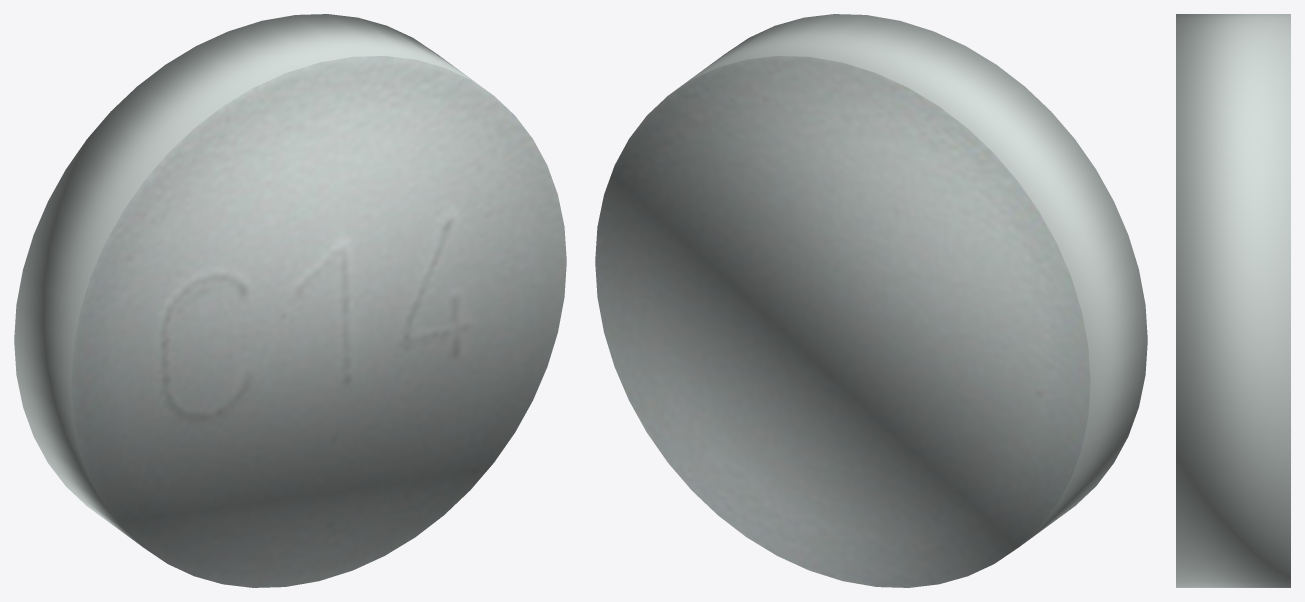
Rendered from 20140311GOPHDRGPT01992.fbx.
3 views of the same model, side by side, from view 1: azimuth 30°, elevation 25°; view 2: azimuth 150°, elevation 25°; view 3: azimuth 270°, elevation 25° (orthographic).
Parts seen in each view (by area): view 1: 貝茲圓.004; view 2: 貝茲圓.004; view 3: 貝茲圓.004.
Part boxes in pixels (box(x1,y1,x2,y2)): 貝茲圓.004: box(14, 14, 566, 587); 貝茲圓.004: box(595, 14, 1147, 587); 貝茲圓.004: box(1176, 14, 1290, 587).
Bounding box in the file's own units: 0.8933 × 0.8933 × 0.1787.
